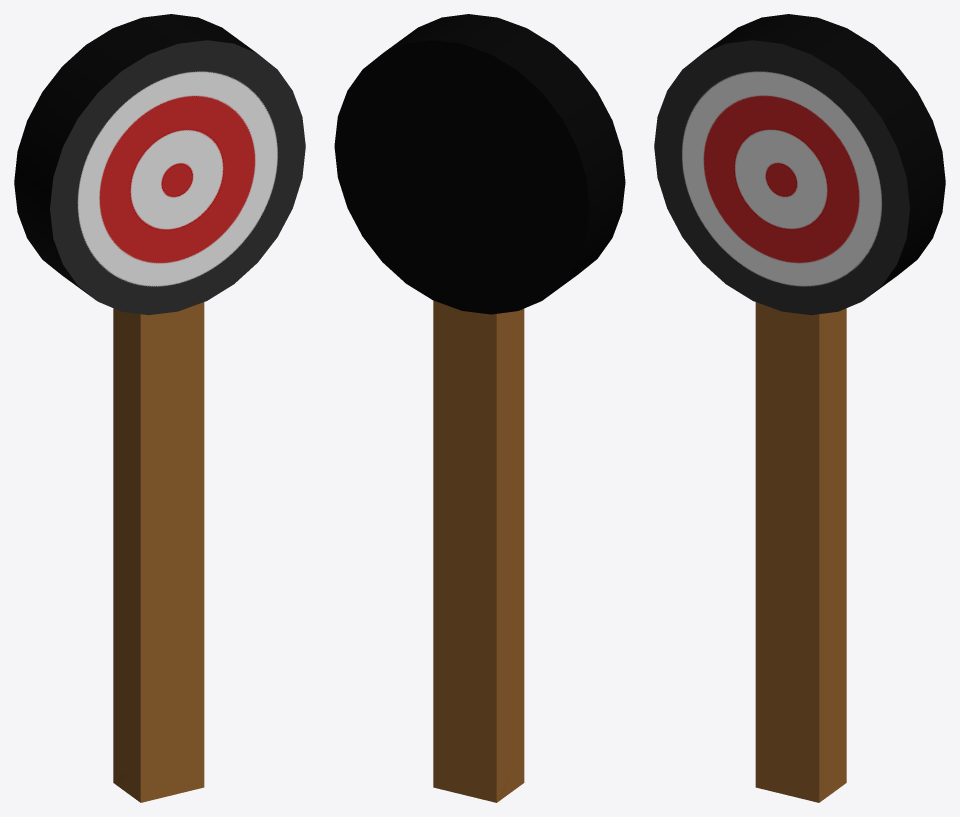
Rendered from target.fbx.
The picture shows the model from 3 angles, left to right: view 1: azimuth 30°, elevation 25°; view 2: azimuth 150°, elevation 25°; view 3: azimuth 330°, elevation 25°; orthographic projection.
Parts seen in each view (by area): view 1: Box001; view 2: Box001; view 3: Box001.
Part boxes in pixels (bbox=[...]): Box001: bbox=[14, 14, 305, 802]; Box001: bbox=[334, 14, 625, 802]; Box001: bbox=[654, 14, 945, 802].
Size of the model in its own units: 9.53 by 26.88 by 2.31.
Materials: 1 (1 with a texture image).
